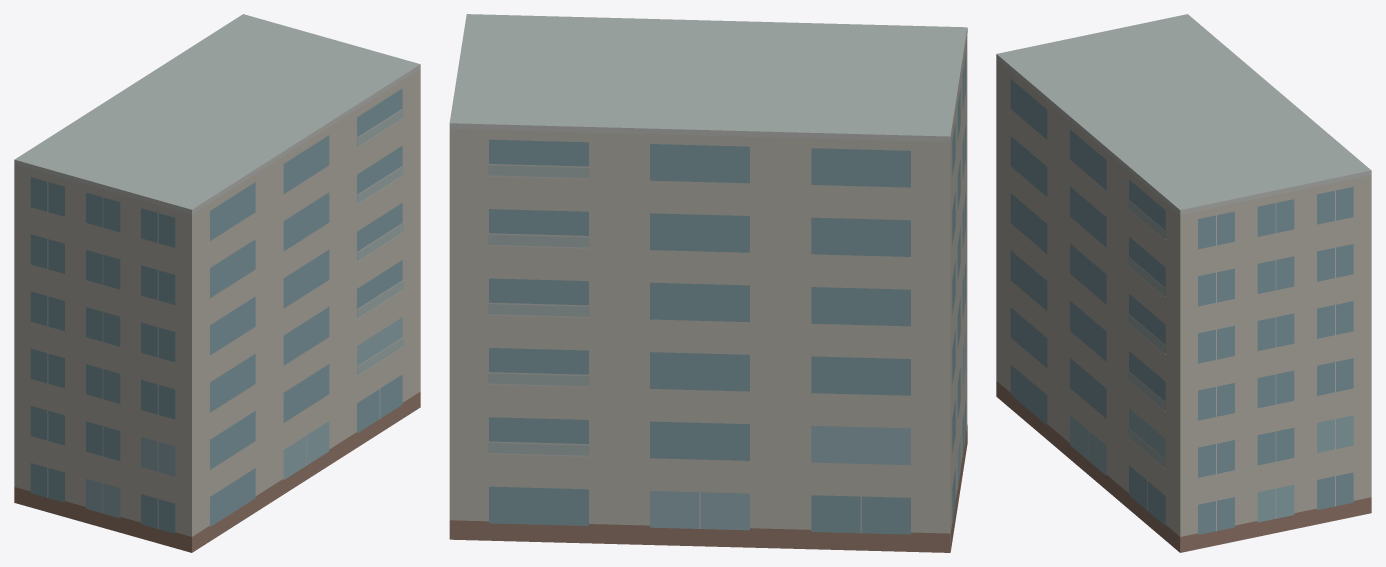
Rendered from survey-upis-32913985.glb.
The picture shows the model from 3 angles, left to right: view 1: azimuth 30°, elevation 25°; view 2: azimuth 150°, elevation 25°; view 3: azimuth 270°, elevation 25°; orthographic projection. The views are drawn at different scales.
Visible parts, largest first — view 1: survey-upis-32913985.tmp; view 2: survey-upis-32913985.tmp; view 3: survey-upis-32913985.tmp.
Part boxes in pixels (x1,y1,x2,y2): survey-upis-32913985.tmp: [14, 14, 420, 552]; survey-upis-32913985.tmp: [449, 14, 967, 552]; survey-upis-32913985.tmp: [996, 14, 1371, 552].
Size of the model in its own units: 22.47 by 18.3 by 18.16.
